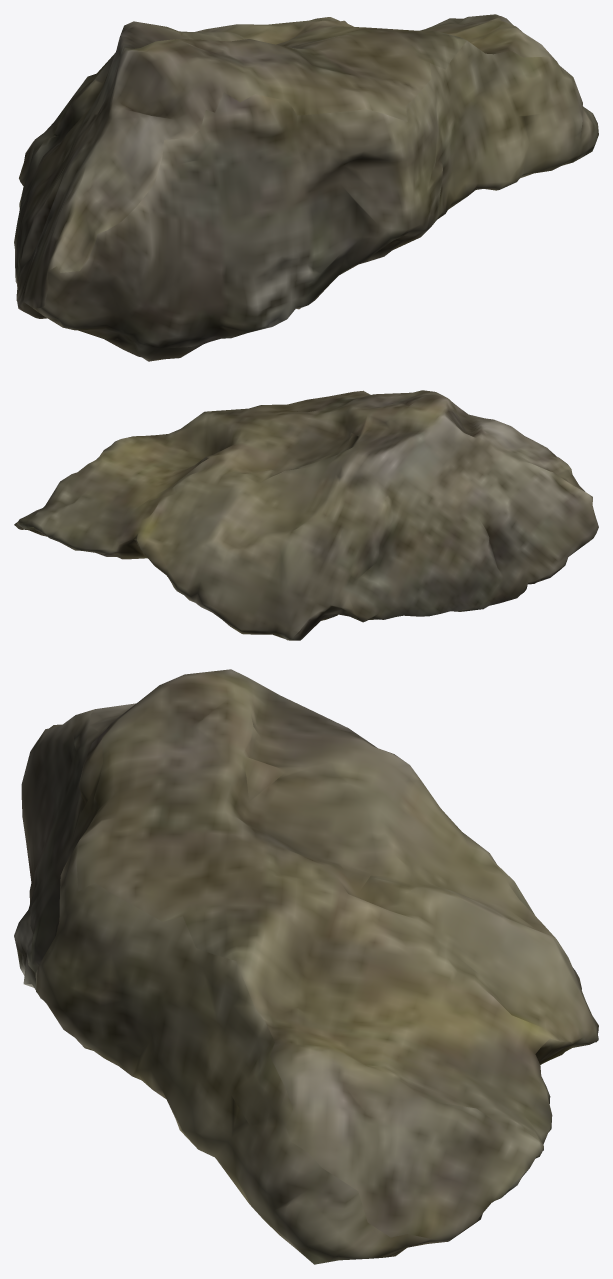
The picture shows the model from 3 angles, top to bottom: view 1: azimuth 30°, elevation 25°; view 2: azimuth 150°, elevation 25°; view 3: azimuth 270°, elevation 25°; orthographic projection. The views are drawn at different scales.
Parts seen in each view (by area): view 1: rock_moss_set_02__c_lod1; view 2: rock_moss_set_02__c_lod1; view 3: rock_moss_set_02__c_lod1.
Part boxes in pixels (left/top/right/bottom): rock_moss_set_02__c_lod1: left=14, top=14, right=598, bottom=361; rock_moss_set_02__c_lod1: left=14, top=390, right=598, bottom=640; rock_moss_set_02__c_lod1: left=14, top=669, right=598, bottom=1264.
Size of the model in its own units: 1.63 by 0.6039 by 1.01.
Materials: 1 (1 with a texture image).
